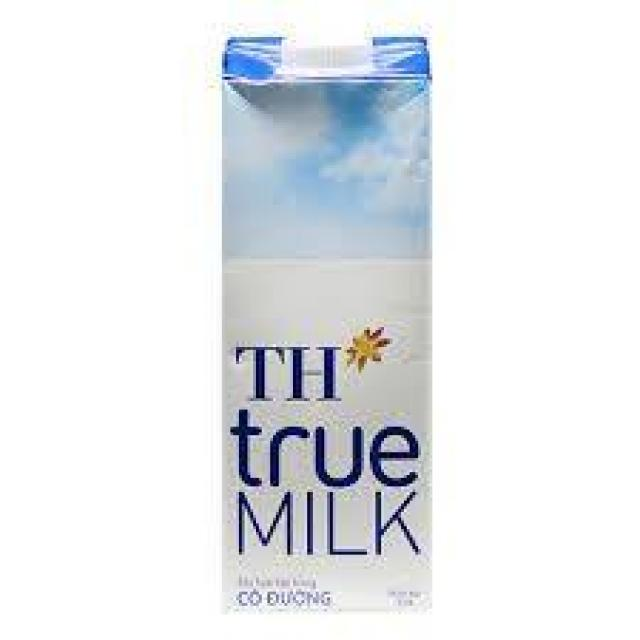non_white_jug: (202, 13, 455, 627)
